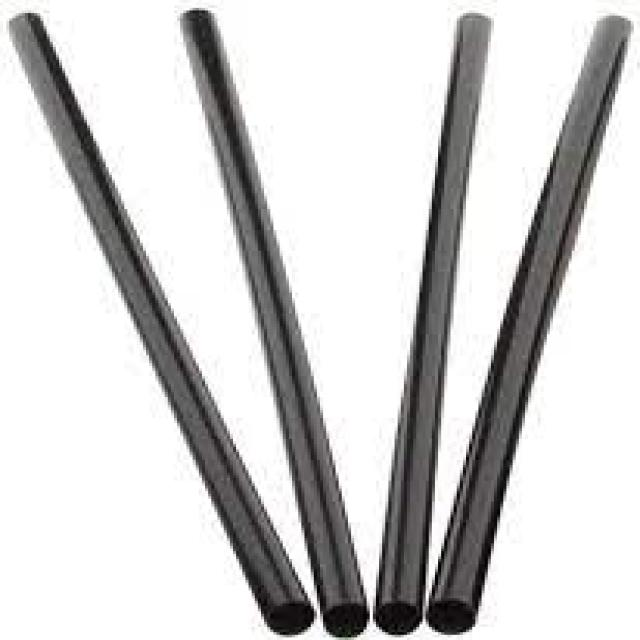straw: (10, 14, 312, 633), (430, 16, 630, 632), (181, 10, 369, 636), (376, 14, 491, 633)
